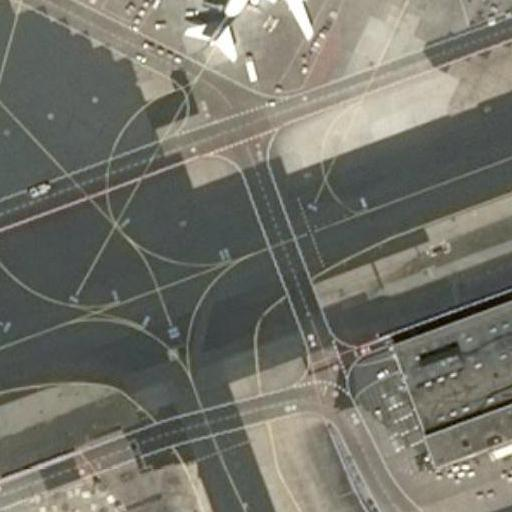Aircraft: (155, 0, 330, 71)
